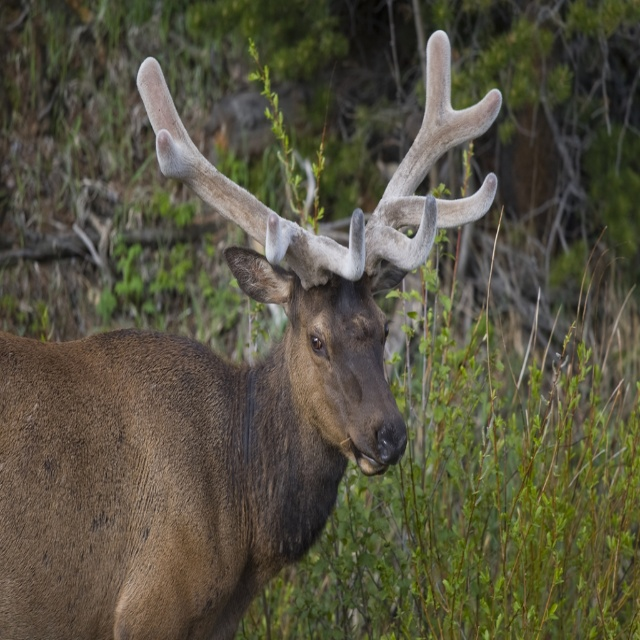Deer: (0, 29, 503, 638)
